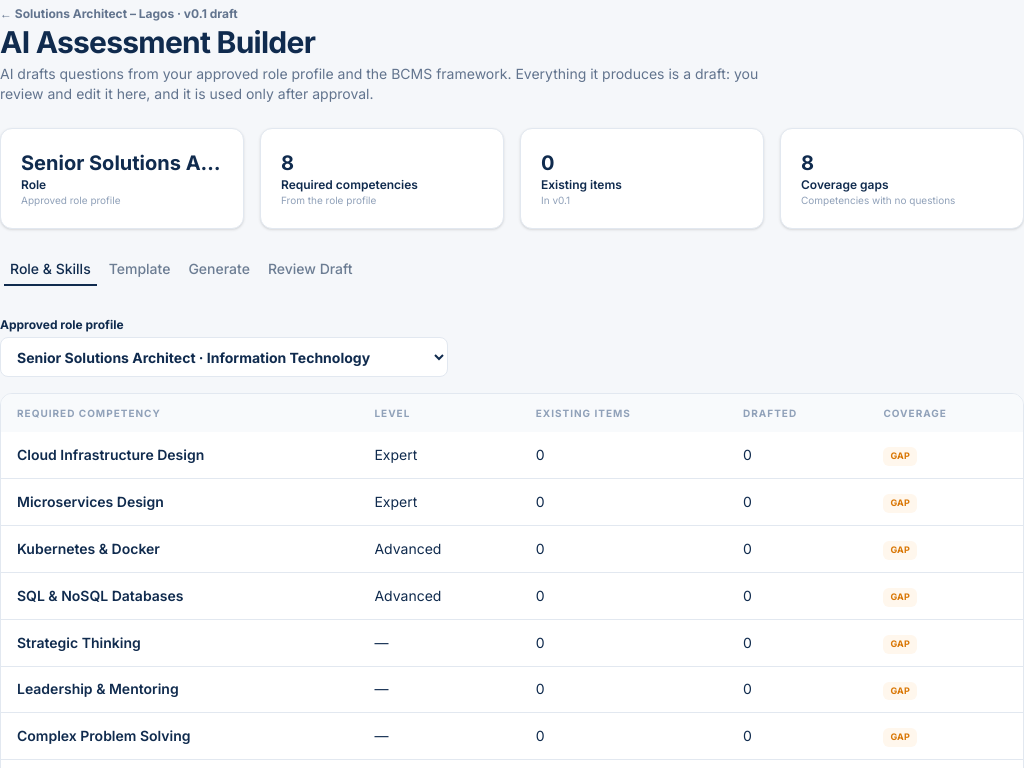
Test: AI Assessment Builder screen › adds questions from a recommended template
This screenshot has width=1024, height=768.
Click the tab "Template" at (140, 269), box [102,256,177,282]
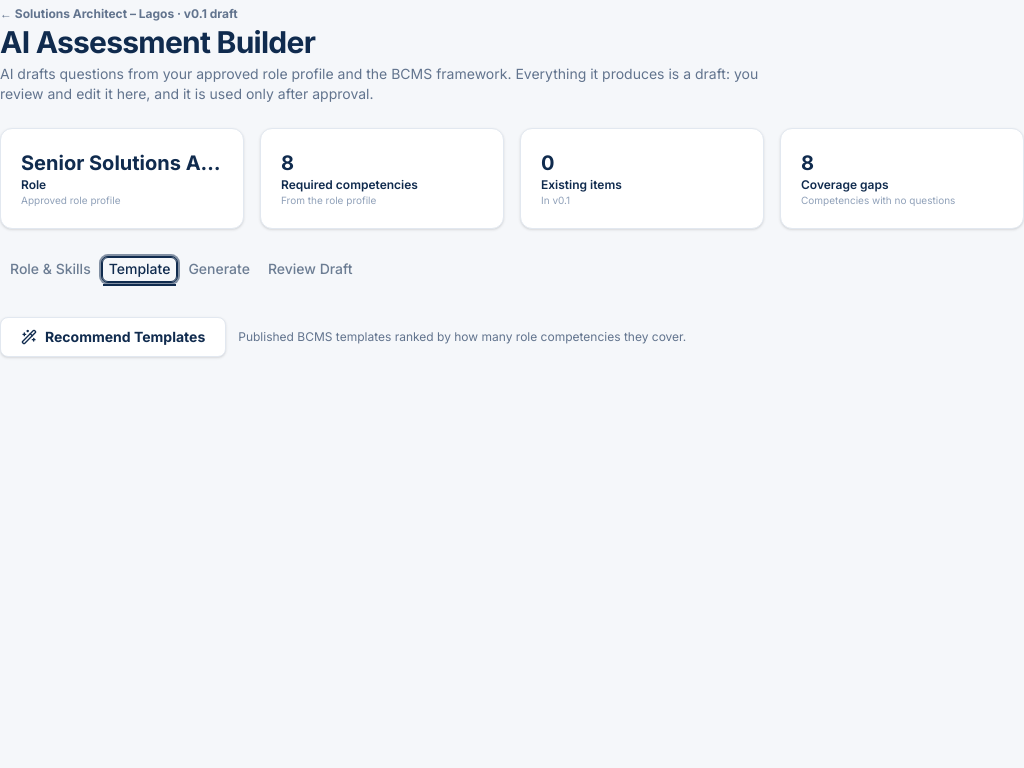
Click the button "Recommend Templates" at (113, 337), box [0,317,226,357]
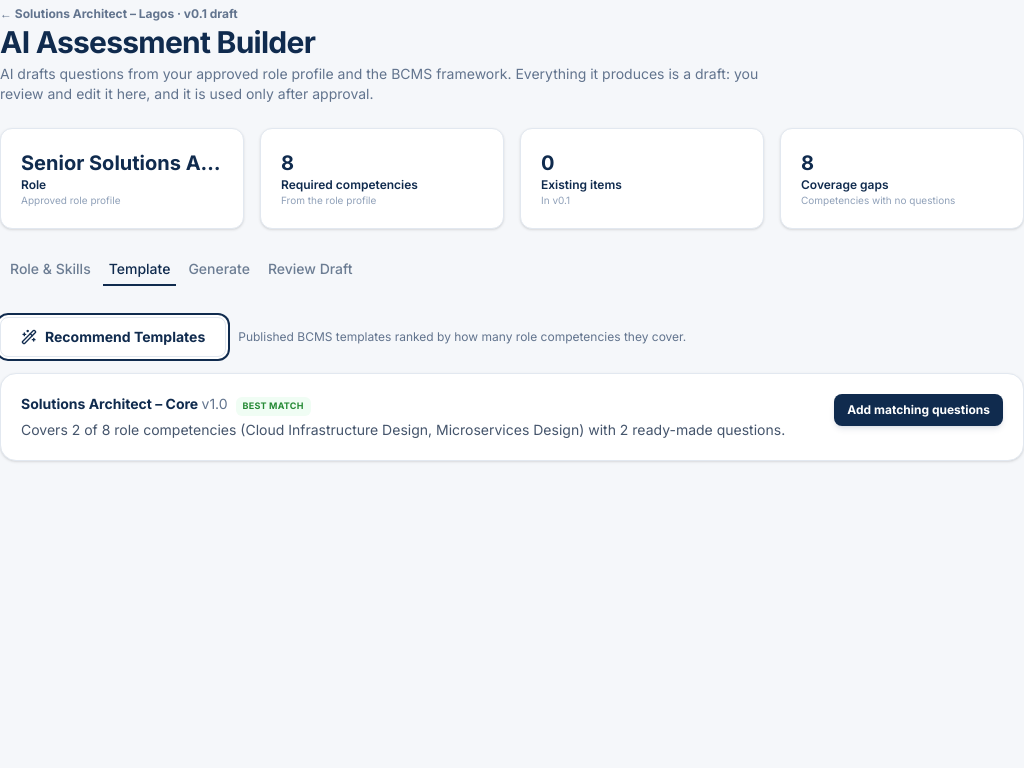
Expected: the text "Best match" is shown, [236,397,311,416]
Click the button "Add matching questions" at (919, 410), box [834,394,1003,426]
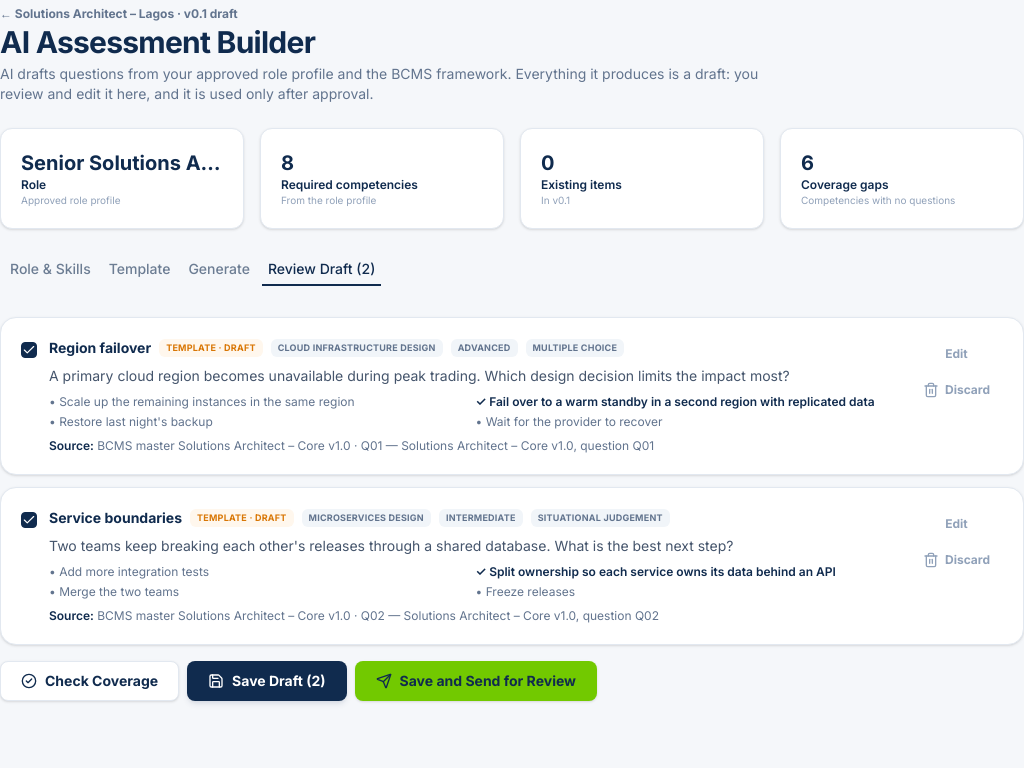
Expected: the text "Template · draft" is shown 2 times, [159,339,263,357]; [190,509,294,527]
